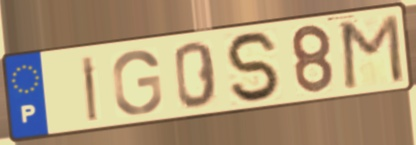0: (173, 38, 218, 111)
8: (289, 22, 335, 97)
G: (110, 48, 165, 117)
I: (79, 54, 100, 125)
M: (339, 11, 407, 92)
S: (223, 30, 286, 105)
